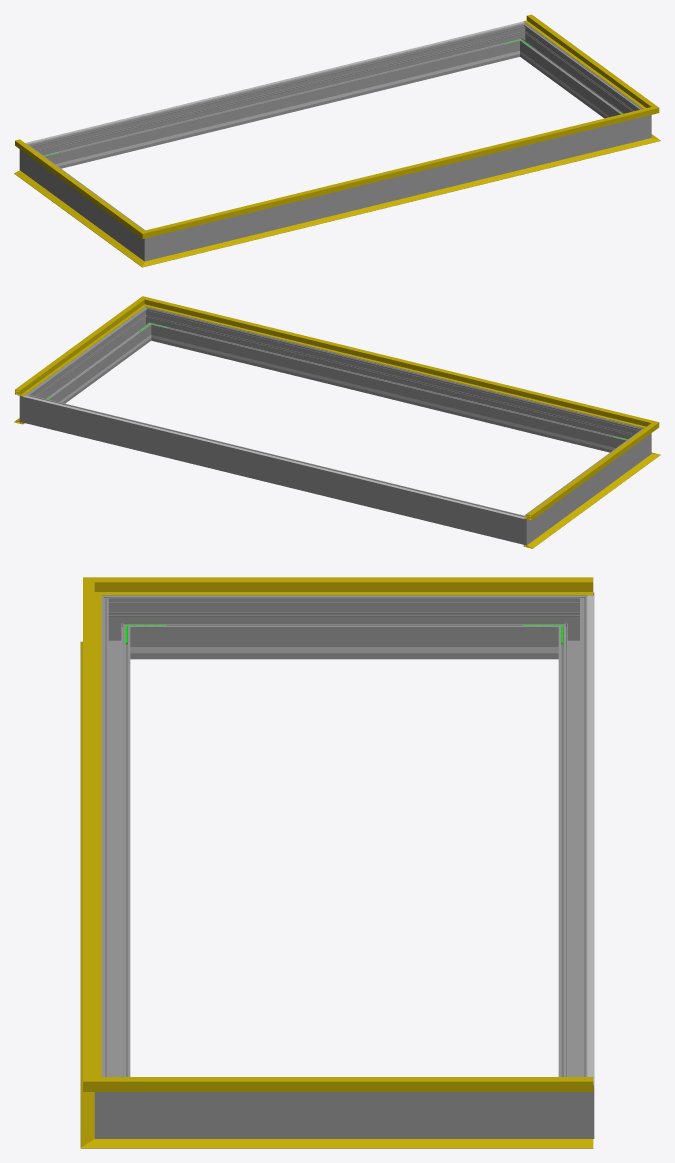
3 renders of one model, top to bottom at view 1: azimuth 30°, elevation 25°; view 2: azimuth 150°, elevation 25°; view 3: azimuth 270°, elevation 25°, orthographic. The views are drawn at different scales.
Parts seen in each view (by area): view 1: 3DGeom-278, 3DGeom-300, 3DGeom-123, 3DGeom-299, 3DGeom-28, 3DGeom-270, 3DGeom-246, 3DGeom-128, 3DGeom-118, 3DGeom-222, 3DGeom-38, 3DGeom-272 (+2 smaller); view 2: 3DGeom-300, 3DGeom-278, 3DGeom-123, 3DGeom-299, 3DGeom-270, 3DGeom-241, 3DGeom-128, 3DGeom-118, 3DGeom-222, 3DGeom-38, 3DGeom-280, 3DGeom-286 (+1 smaller); view 3: 3DGeom-270, 3DGeom-299, 3DGeom-278, 3DGeom-300, 3DGeom-123, 3DGeom-118, 3DGeom-128, 3DGeom-30, 3DGeom-222, 3DGeom-234, 3DGeom-286, 3DGeom-292 (+5 smaller).
Part boxes in pixels (bbox=[...]): 3DGeom-278: bbox=[40, 26, 516, 168]; 3DGeom-300: bbox=[163, 119, 632, 256]; 3DGeom-123: bbox=[158, 110, 640, 234]; 3DGeom-299: bbox=[522, 29, 637, 118]; 3DGeom-28: bbox=[157, 141, 642, 262]; 3DGeom-270: bbox=[30, 150, 139, 253]; 3DGeom-246: bbox=[62, 55, 502, 165]; 3DGeom-128: bbox=[524, 14, 647, 106]; 3DGeom-118: bbox=[15, 139, 136, 230]; 3DGeom-222: bbox=[25, 21, 524, 143]; 3DGeom-38: bbox=[14, 170, 136, 259]; 3DGeom-272: bbox=[134, 226, 163, 261]; 3DGeom-300: bbox=[154, 310, 631, 452]; 3DGeom-278: bbox=[38, 398, 511, 540]; 3DGeom-123: bbox=[156, 300, 640, 425]; 3DGeom-299: bbox=[33, 313, 149, 403]; 3DGeom-270: bbox=[531, 434, 640, 537]; 3DGeom-241: bbox=[169, 339, 609, 449]; 3DGeom-128: bbox=[15, 304, 139, 396]; 3DGeom-118: bbox=[524, 429, 648, 520]; 3DGeom-222: bbox=[23, 395, 524, 518]; 3DGeom-38: bbox=[523, 459, 650, 548]; 3DGeom-280: bbox=[508, 510, 537, 545]; 3DGeom-286: bbox=[19, 389, 41, 426]; 3DGeom-270: bbox=[137, 595, 551, 659]; 3DGeom-299: bbox=[137, 1092, 551, 1138]; 3DGeom-278: bbox=[558, 610, 594, 1076]; 3DGeom-300: bbox=[101, 610, 130, 1076]; 3DGeom-123: bbox=[83, 595, 101, 1073]; 3DGeom-118: bbox=[125, 577, 593, 595]; 3DGeom-128: bbox=[125, 1077, 593, 1091]; 3DGeom-30: bbox=[123, 1139, 593, 1148]; 3DGeom-222: bbox=[587, 595, 593, 1084]; 3DGeom-234: bbox=[171, 647, 517, 653]; 3DGeom-286: bbox=[551, 1069, 594, 1138]; 3DGeom-292: bbox=[94, 1069, 137, 1138].
Bounding box in the file's own units: 4.27 × 0.2596 × 1.83.
